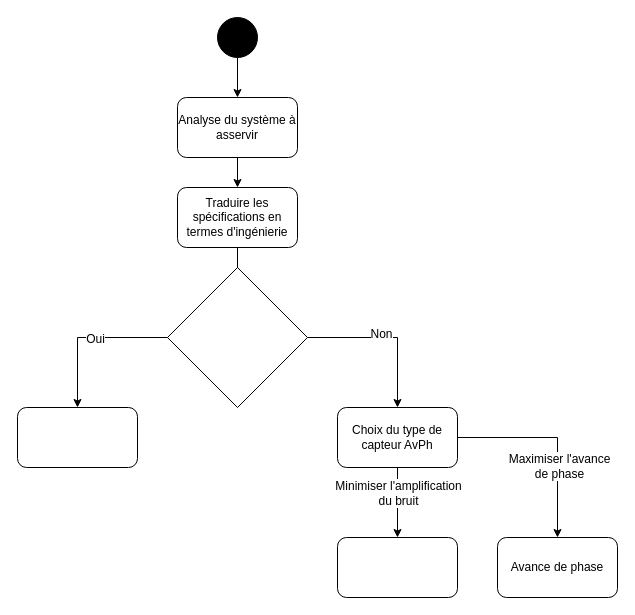
Some shapes in this 635 by 615 pixel diagram are drawn without their labels. The shapes that lost their labels are listed below. From the top down, each one's centre as x and y in pixels, then its label:
At pixel 237 337: "Régime transitoire répond aux spécifications".
At pixel 397 567: "PD".
